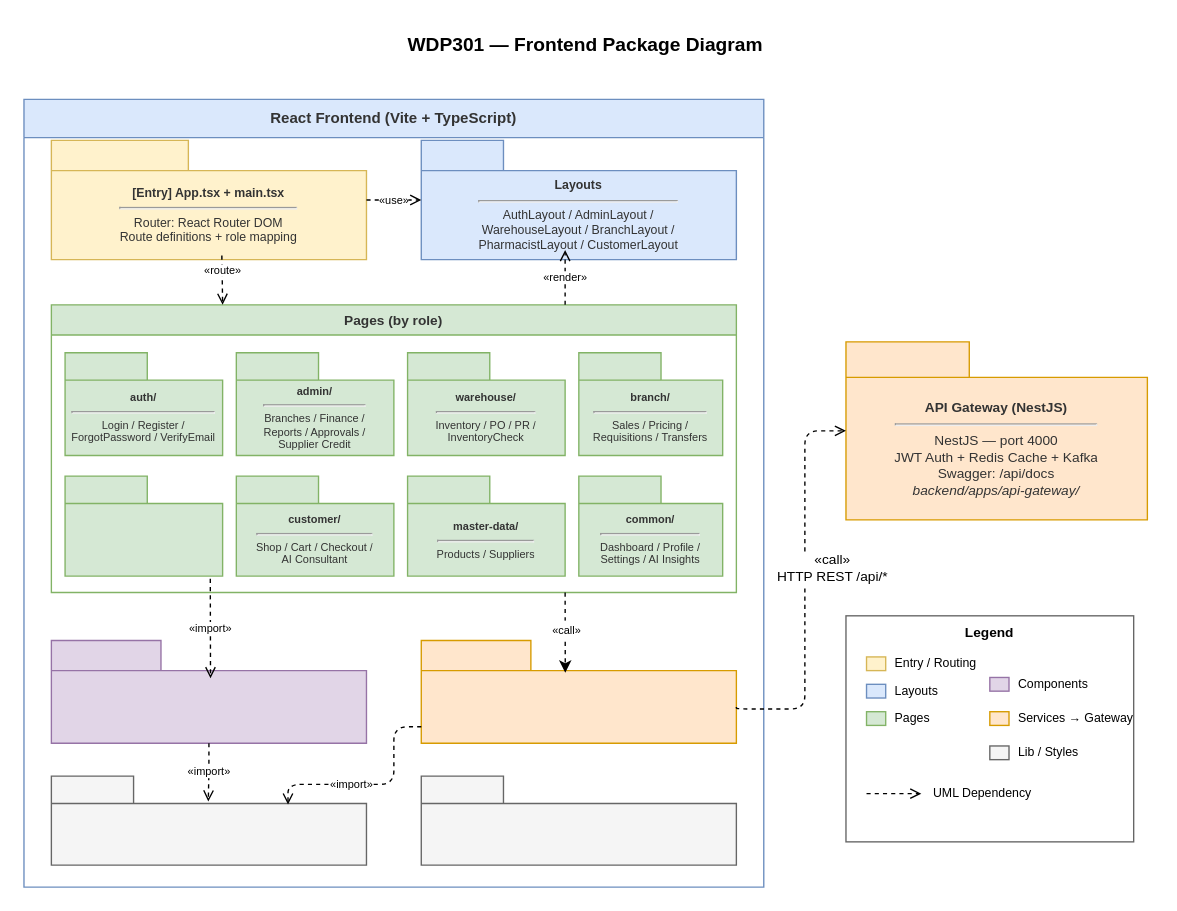
The diagram is 1177 pixels wide and 911 high, and some of its shapes have lost their labels. The centre of each missing label's shape, as x and y in pixels:
Components/UI Header / Sidebar / Logo / ProtectedRoute (role guard): [208,691]
Lib / Utils cn() (clsx+tailwind-merge): [208,820]
pharmacist/ Sales (POS) / Drug Interactions: [143,525]
Services auth.service.ts (API calls) Gọi HTTP REST tới Gateway: [578,691]
Styles index.css (Tailwind CSS v4): [578,820]
